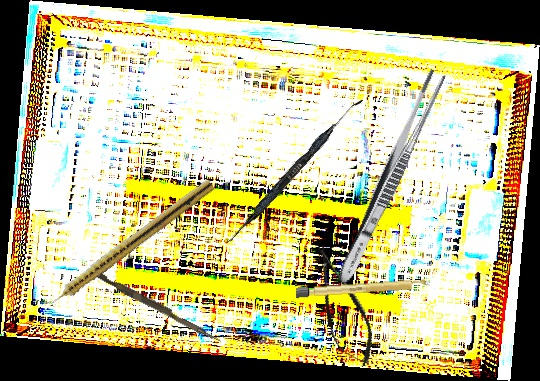Dressing Forceps: (333, 67, 448, 287)
Handpiece: (38, 174, 217, 315)
Micro Scissor: (301, 239, 383, 373)
Pusher: (88, 268, 225, 344)
Scalpel Handle: (295, 278, 431, 299)
Spatula Surgical: (226, 93, 363, 248)
